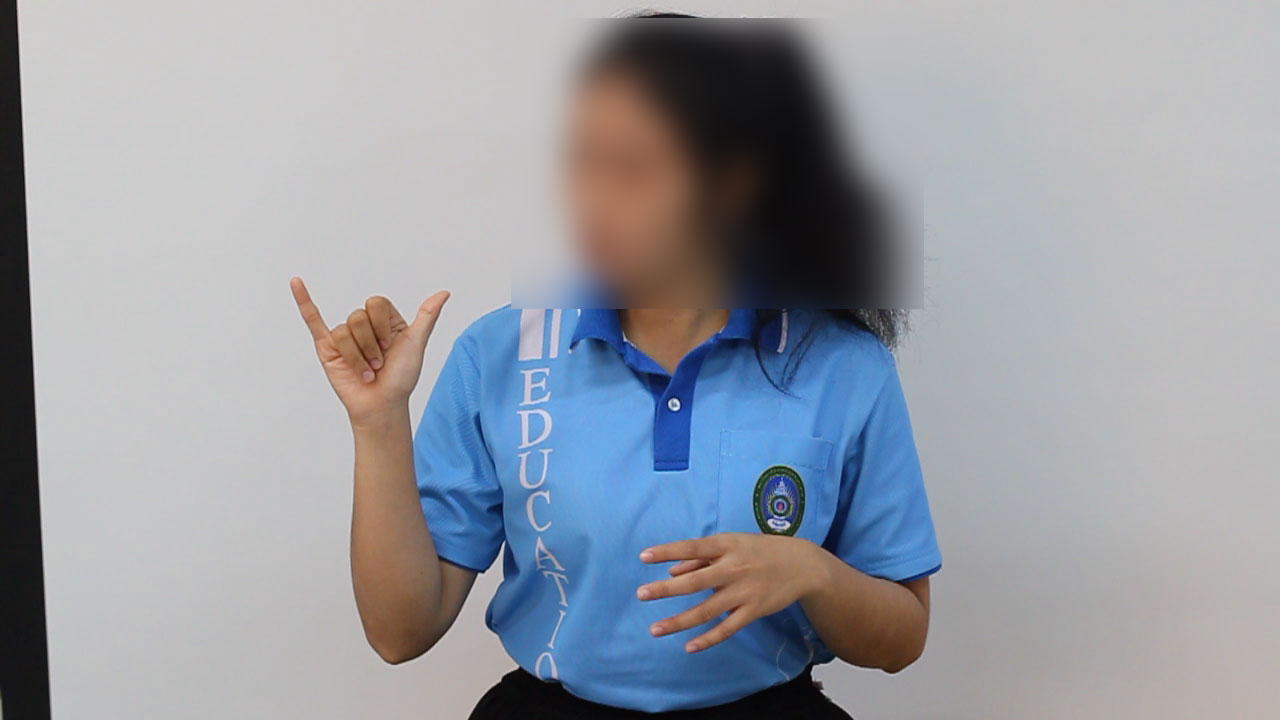yor: (272, 271, 465, 428)
